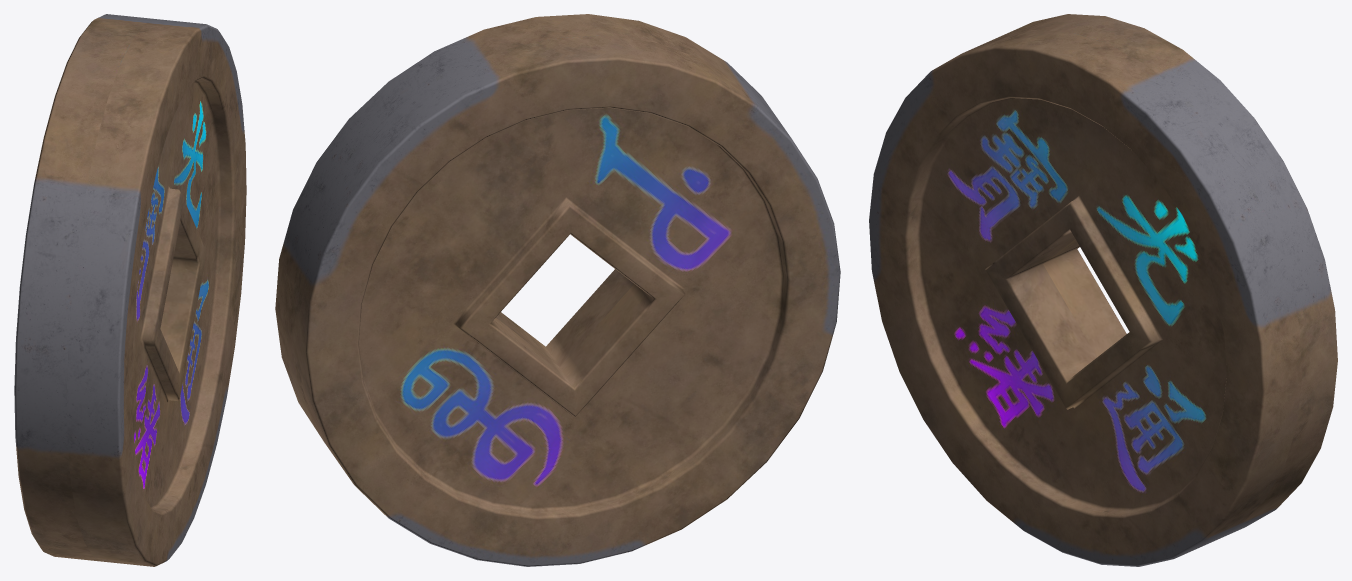
File: Moneda 1.fbx
3 renders of one model, left to right at view 1: azimuth 30°, elevation 25°; view 2: azimuth 150°, elevation 25°; view 3: azimuth 270°, elevation 25°, orthographic. The views are drawn at different scales.
Visible parts, largest first — view 1: Moneda_LOD0; view 2: Moneda_LOD0; view 3: Moneda_LOD0.
Part boxes in pixels (x1,y1,x2,y2): Moneda_LOD0: (14,14,246,566); Moneda_LOD0: (275,14,840,566); Moneda_LOD0: (869,14,1337,566).
Size of what is drawn, in the model's own units: 373 by 452 by 387.
